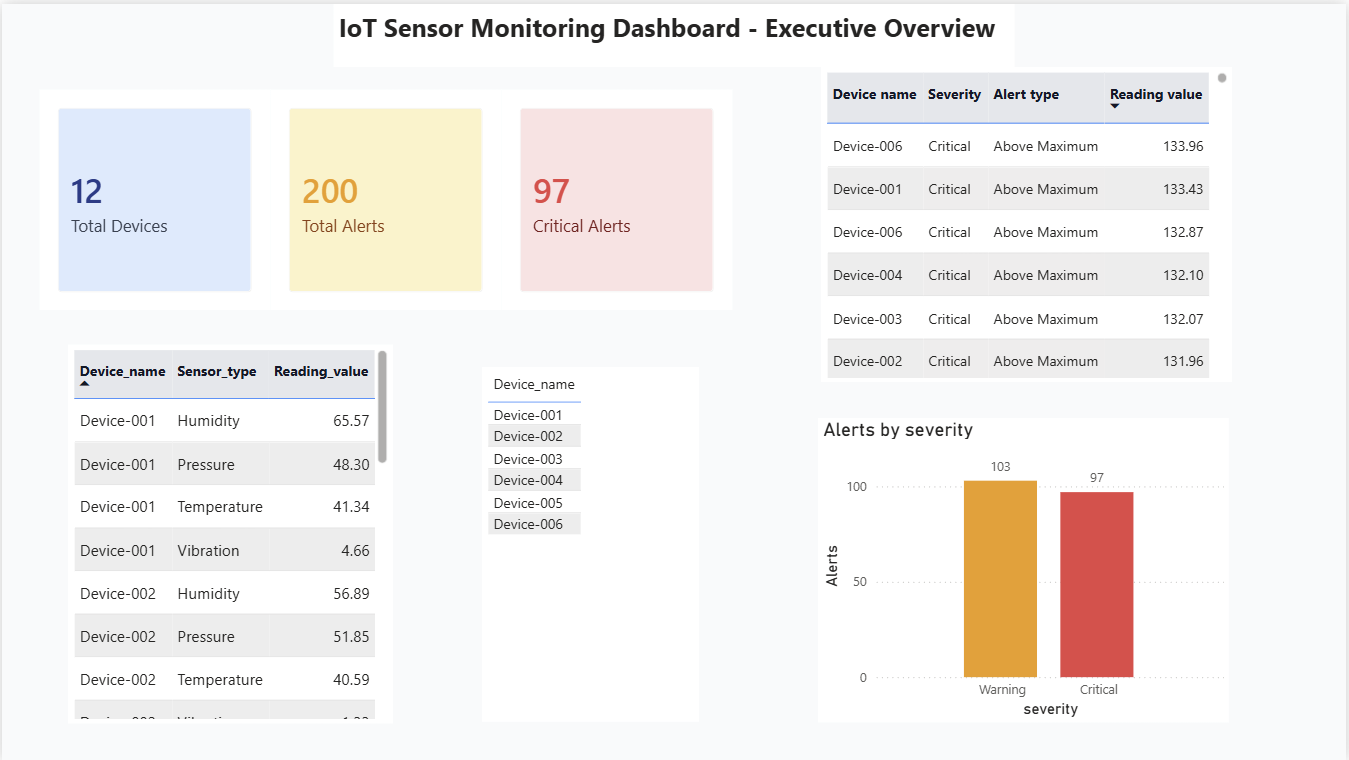

The dashboard page shown, as its layout file describes it:
{"tool":"powerbi","page":{"name":"Executive Overview","canvas":[1280,720],"ordinal":0},"visuals":[{"type":"cardVisual","fields":{"Data":["Count(public vw_device_status_summary.device_id)"]},"box":[35.4,81.2,220,210.1],"z":0},{"type":"cardVisual","fields":{"Data":["CountNonNull(public vw_alert_summary.alert_id)"]},"box":[255.3,81.2,220,210.1],"z":1000},{"type":"cardVisual","fields":{"Data":["CountNonNull(public vw_alert_summary.alert_id)"]},"box":[475.3,81.2,220,210.1],"z":2000},{"type":"clusteredColumnChart","fields":{"Category":["public vw_alert_summary.severity"],"Y":["CountNonNull(public vw_alert_summary.alert_id)"]},"box":[777.1,394.9,391.6,289.8],"z":3000},{"type":"tableEx","fields":{"Values":["public vw_latest_sensor_readings.device_name","public vw_latest_sensor_readings.sensor_type","public vw_latest_sensor_readings.reading_value"]},"box":[63.3,323.9,308.9,360.8],"z":4000},{"type":"tableEx","fields":{"Values":["public vw_alert_summary.device_name","public vw_alert_summary.severity","public vw_alert_summary.alert_type","public vw_alert_summary.reading_value"]},"box":[780.6,59.5,391.6,300.2],"z":5000},{"type":"tableEx","fields":{"Values":["public vw_alert_summary.device_name"]},"box":[490,345.7,205.7,338.6],"z":6000},{"type":"textbox","box":[315.7,0,648.6,60],"z":7000}]}

Visuals, with their boxes in screenshot pixels (x1, y1, x2, y2), scaled from the page's 1280x720 canvas onto the 1349x760 screenshot:
cardVisual - Count(public vw_device_status_summary.device_id): (37, 86, 269, 307)
cardVisual - CountNonNull(public vw_alert_summary.alert_id): (269, 86, 501, 307)
cardVisual - CountNonNull(public vw_alert_summary.alert_id): (501, 86, 733, 307)
clusteredColumnChart - public vw_alert_summary.severity x CountNonNull(public vw_alert_summary.alert_id): (819, 417, 1232, 723)
tableEx - public vw_latest_sensor_readings.device_name x public vw_latest_sensor_readings.sensor_type: (67, 342, 392, 723)
tableEx - public vw_alert_summary.device_name x public vw_alert_summary.severity: (823, 63, 1235, 380)
tableEx - public vw_alert_summary.device_name: (516, 365, 733, 722)
textbox: (333, 0, 1016, 63)
